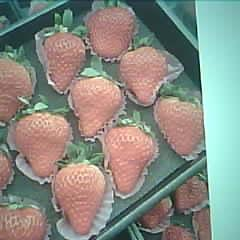straw-ripe: (55, 163, 106, 235), (18, 112, 70, 179), (107, 126, 155, 192), (74, 78, 122, 136), (120, 47, 168, 104), (159, 94, 203, 156), (44, 31, 85, 91), (90, 6, 136, 59)
